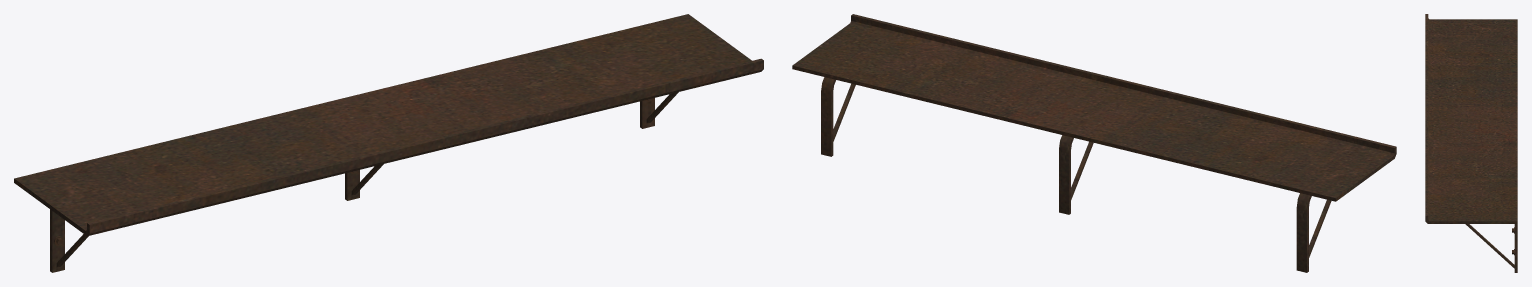
The model's file is hanging_shelf_mx_1_1.obj.
The picture shows the model from 3 angles, left to right: view 1: azimuth 30°, elevation 25°; view 2: azimuth 150°, elevation 25°; view 3: azimuth 270°, elevation 25°; orthographic projection. The views are drawn at different scales.
Parts seen in each view (by area): view 1: hanging_shelf_mx_1_1; view 2: hanging_shelf_mx_1_1; view 3: hanging_shelf_mx_1_1.
Part boxes in pixels (x1=…): hanging_shelf_mx_1_1: x1=14, y1=14, x2=763, y2=272; hanging_shelf_mx_1_1: x1=792, y1=14, x2=1396, y2=272; hanging_shelf_mx_1_1: x1=1425, y1=14, x2=1517, y2=272.
Size of the model in its own units: 1.6 by 0.25 by 0.31.
